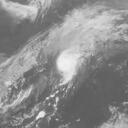cyclone: (54, 44, 90, 81)
